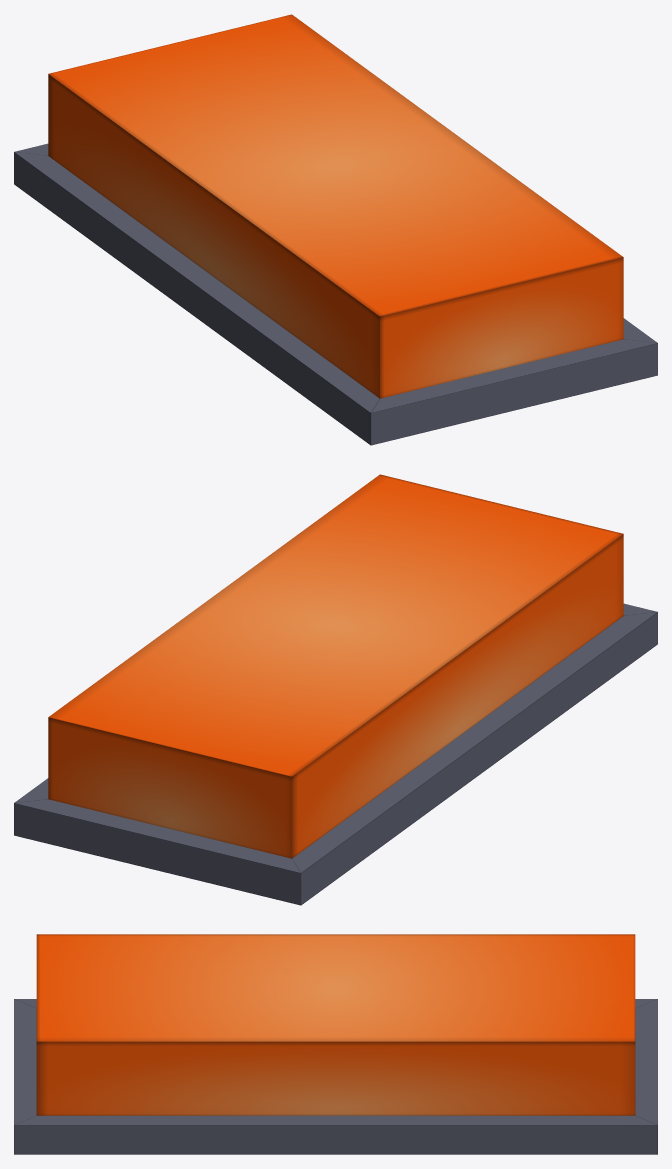
File: Button_Rectangular_Orange.FBX
3 renders of one model, top to bottom at view 1: azimuth 30°, elevation 25°; view 2: azimuth 150°, elevation 25°; view 3: azimuth 270°, elevation 25°, orthographic. The views are drawn at different scales.
Visible parts, largest first — view 1: Push_Me, Button_Rectangular_Orange; view 2: Push_Me, Button_Rectangular_Orange; view 3: Push_Me, Button_Rectangular_Orange.
Boxes of the visible parts, left/top/right/bottom form: Push_Me: left=48, top=14, right=623, bottom=398; Button_Rectangular_Orange: left=14, top=143, right=657, bottom=445; Push_Me: left=48, top=474, right=623, bottom=858; Button_Rectangular_Orange: left=14, top=603, right=657, bottom=905; Push_Me: left=36, top=934, right=635, bottom=1115; Button_Rectangular_Orange: left=14, top=999, right=657, bottom=1154.
Size of the model in its own units: 0.0922 by 0.0351 by 0.1985.
